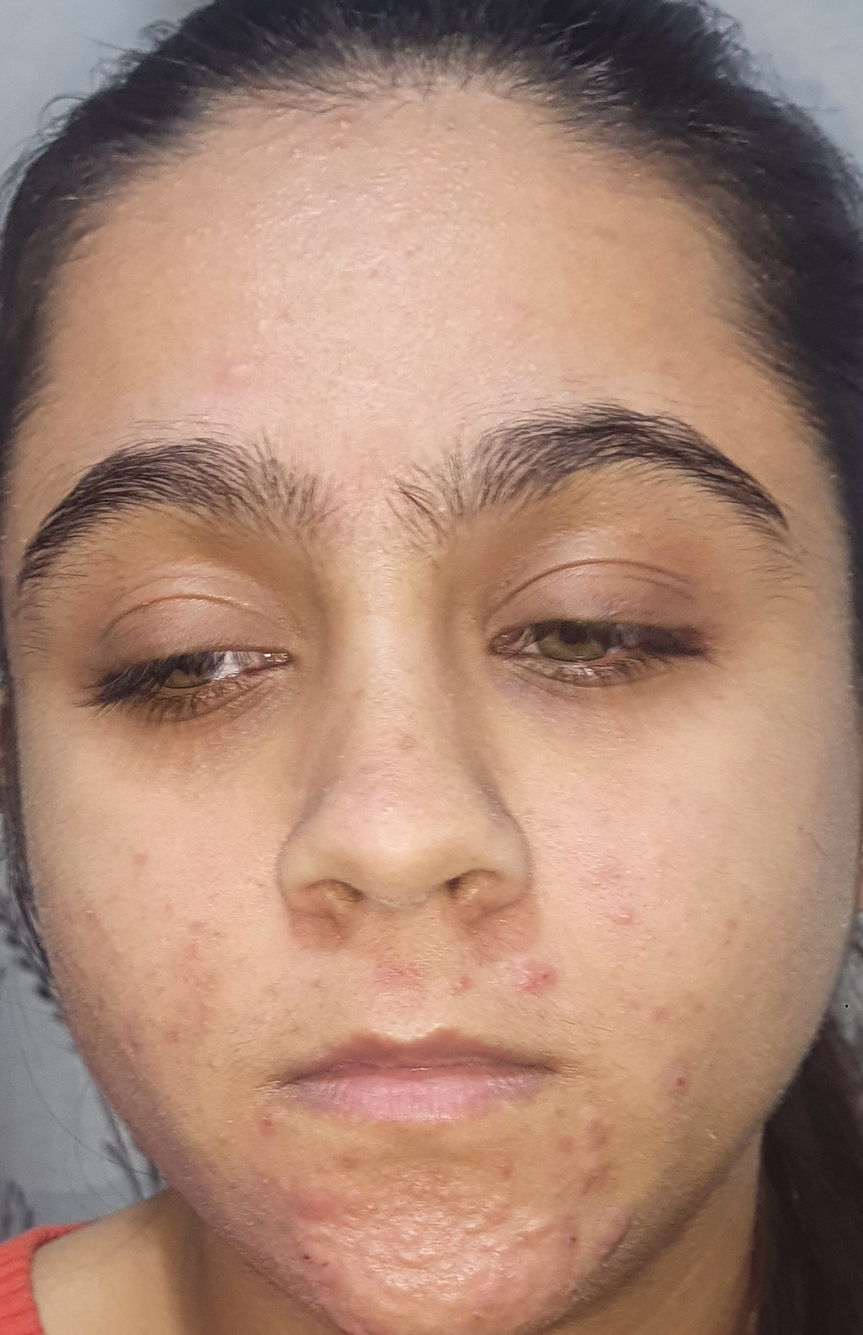closed_comedone: (448, 1187, 512, 1269), (378, 1233, 452, 1295), (514, 1194, 567, 1271)
papule: (604, 896, 690, 958), (510, 952, 578, 1022), (274, 1154, 338, 1225), (248, 1081, 305, 1145), (565, 1145, 633, 1189)
